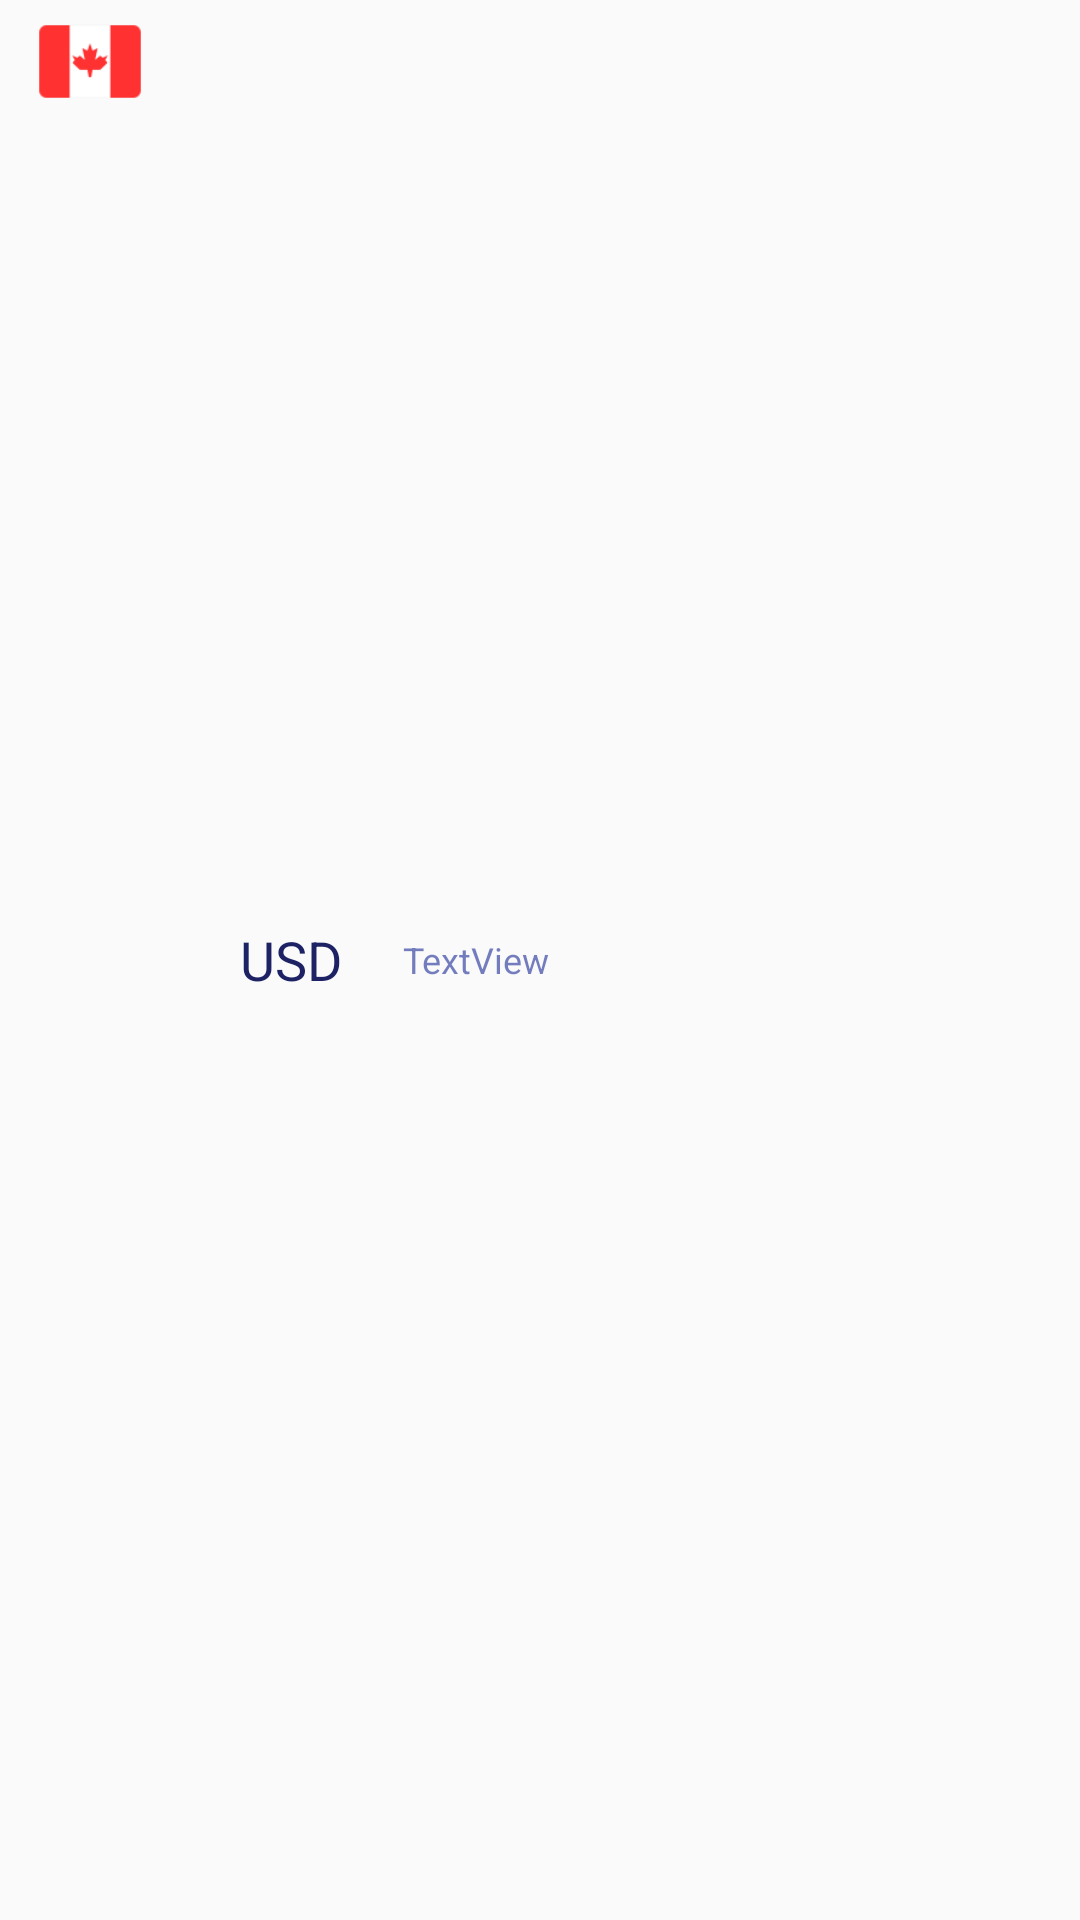

Locate icon controls on the screen. Image size 1080 × 1920, boxes as (left=x1, top=y1, right=x2, bottom=y2).
flag canada: (left=39, top=25, right=141, bottom=98)
